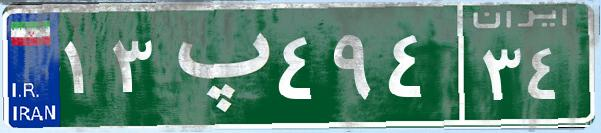1: (57, 26, 110, 107)
3: (475, 38, 525, 113), (110, 28, 158, 105)
4: (385, 28, 445, 110), (273, 28, 330, 110), (525, 38, 570, 115)
9: (330, 28, 385, 110)
پ: (158, 15, 273, 115)
